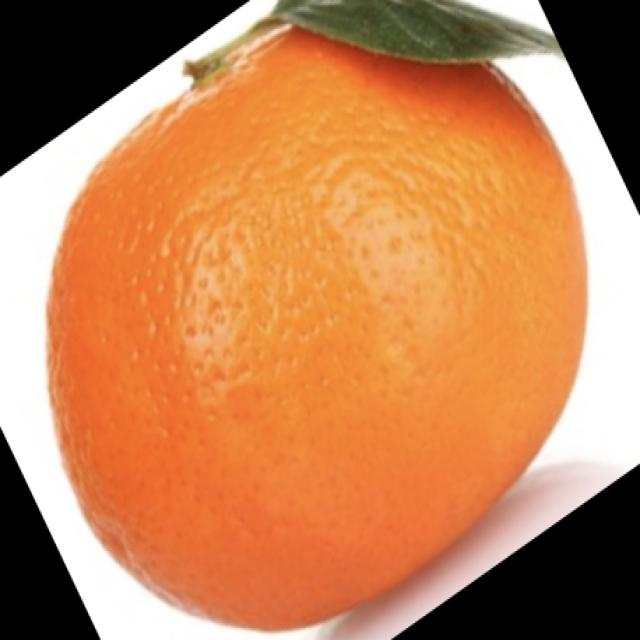orange: (38, 8, 632, 635)
